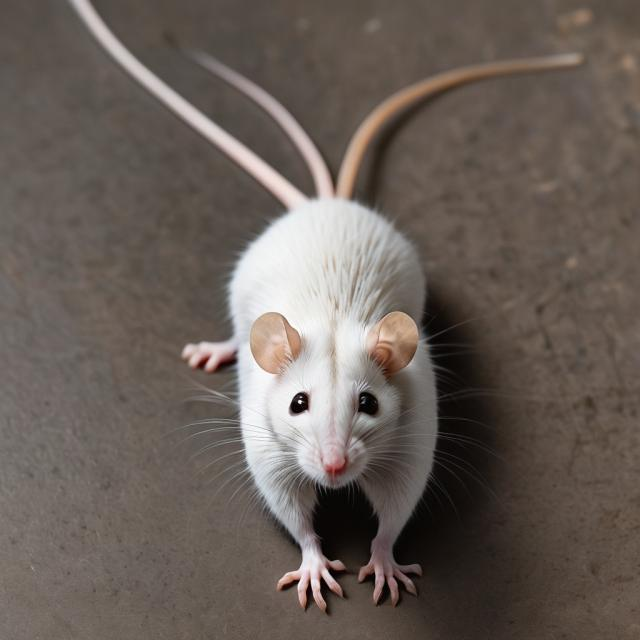rodents: (199, 188, 487, 560)
